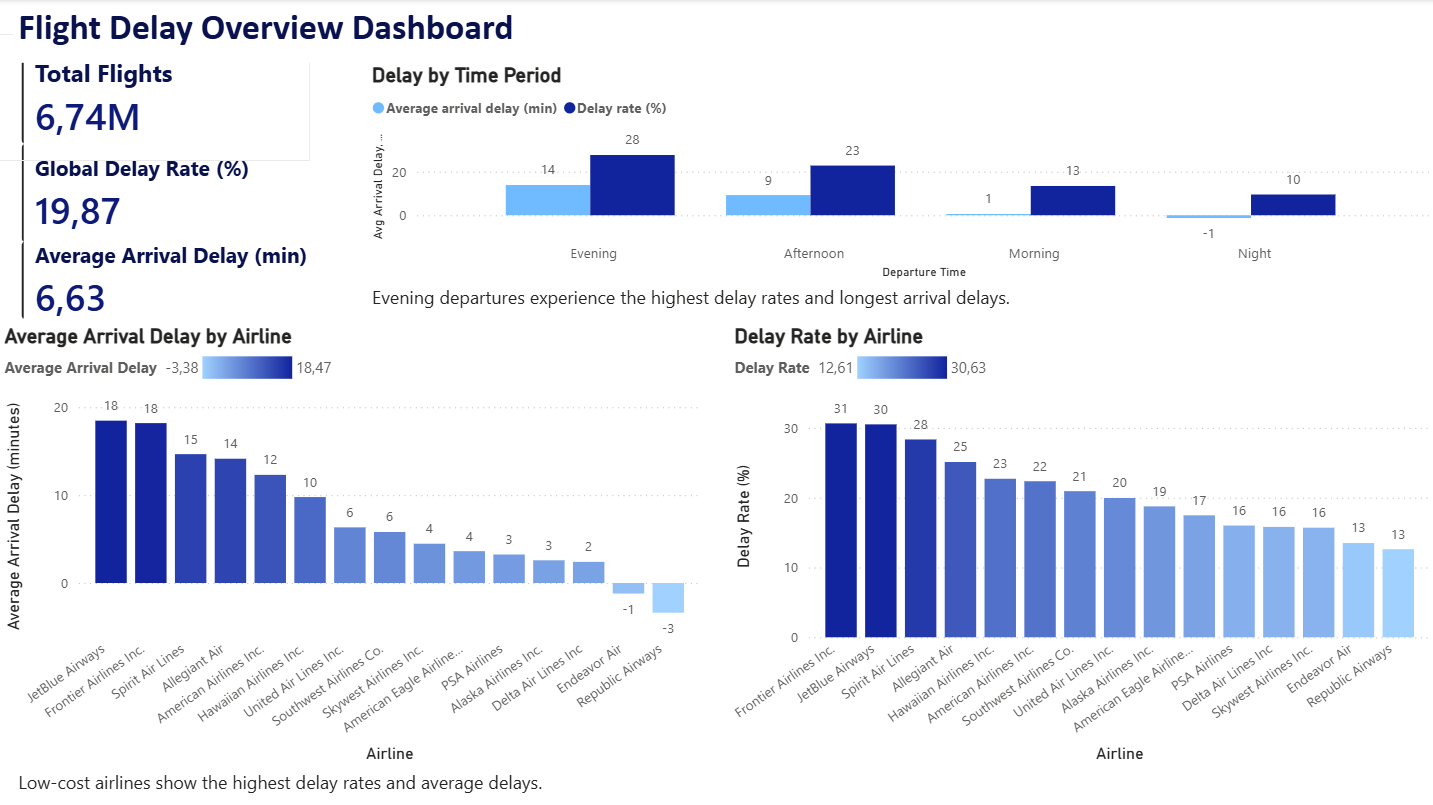

This screenshot's page, from the dashboard's own definition file:
{"tool":"powerbi","page":{"name":"Flight Delay Overview","canvas":[1280,720],"ordinal":5},"visuals":[{"type":"cardVisual","fields":{"Data":["Sum(global_kpis.global_delay_rate)"]},"box":[0,113.4,299.2,118.2],"z":0},{"type":"cardVisual","fields":{"Data":["Sum(global_kpis.total_flights)"]},"box":[0,31.4,277.5,113.4],"z":1000},{"type":"clusteredColumnChart","title":"Average Arrival Delay by Airline","fields":{"Y":["Sum(airline_performance.avg_arrival_delay)"],"Category":["airline_performance.Airline"]},"box":[0,289.5,629.8,395.7],"z":2000},{"type":"clusteredColumnChart","title":"Delay Rate by Airline","fields":{"Category":["airline_performance.Airline"],"Y":["Sum(airline_performance.delay_rate)"]},"box":[650.3,289.5,629.8,395.7],"z":3000},{"type":"clusteredColumnChart","title":"Delay by Time Period","fields":{"Category":["delay_by_time.DepTime_label"],"Y":["Avg(delay_by_time.avg_arrival_delay)","Avg(delay_by_time.delay_rate)"]},"box":[326.9,56.7,953.1,197.9],"z":4000},{"type":"cardVisual","fields":{"Data":["Avg(global_kpis.avg_arrival_delay)"]},"box":[0,200.3,310.1,100.1],"z":5000},{"type":"textbox","box":[12.1,0,573.1,56.7],"z":6000},{"type":"textbox","box":[326.9,249.7,688.9,37.4],"z":7000},{"type":"textbox","box":[12.1,681.6,485,38.6],"z":8000}]}

Visuals, with their boxes in screenshot pixels (x1, y1, x2, y2), scaled from the page's 1280x720 canvas onto the 1433x805 screenshot:
cardVisual - Sum(global_kpis.global_delay_rate): <region>0, 127, 335, 259</region>
cardVisual - Sum(global_kpis.total_flights): <region>0, 35, 311, 162</region>
"Average Arrival Delay by Airline" clusteredColumnChart: <region>0, 324, 705, 766</region>
"Delay Rate by Airline" clusteredColumnChart: <region>728, 324, 1432, 766</region>
"Delay by Time Period" clusteredColumnChart: <region>366, 63, 1432, 285</region>
cardVisual - Avg(global_kpis.avg_arrival_delay): <region>0, 224, 347, 336</region>
textbox: <region>14, 0, 655, 63</region>
textbox: <region>366, 279, 1137, 321</region>
textbox: <region>14, 762, 557, 804</region>
